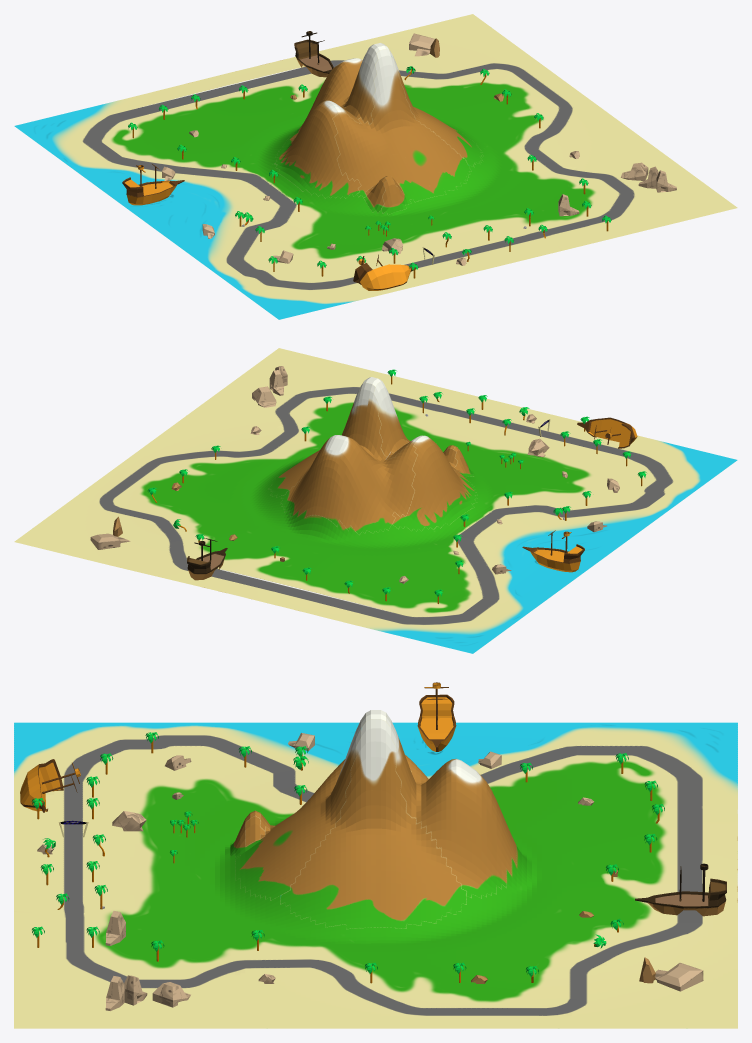
Rendered from MapaIsla.obj.
3 views of the same model, one above another, from view 1: azimuth 30°, elevation 25°; view 2: azimuth 150°, elevation 25°; view 3: azimuth 270°, elevation 25° (orthographic). The views are drawn at different scales.
Visible parts, largest first — view 1: Grid, Cube.006, Cube, Cube.002; view 2: Grid, Cube, Cube.006, Cube.002; view 3: Grid, Cube.002, Cube, Cube.006, Cube.017, Cube.020.
Part boxes in pixels (x1,y1,x2,y2): Grid: (14,14,737,319); Cube.006: (353,254,415,290); Cube: (122,164,184,205); Cube.002: (294,31,333,77); Grid: (14,348,737,653); Cube: (522,530,584,572); Cube.006: (577,417,637,448); Cube.002: (187,538,227,580); Grid: (14,710,737,1028); Cube.002: (635,863,726,916); Cube: (417,682,456,751); Cube.006: (20,759,80,812); Cube.017: (655,962,703,991); Cube.020: (152,982,190,1007).
Bounding box in the file's own units: 712 × 191 × 712.
63 materials, 61 textured.
